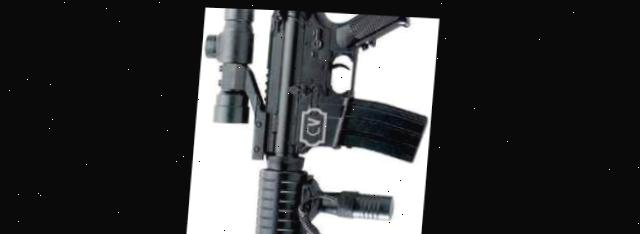rifle: (195, 6, 425, 234)
